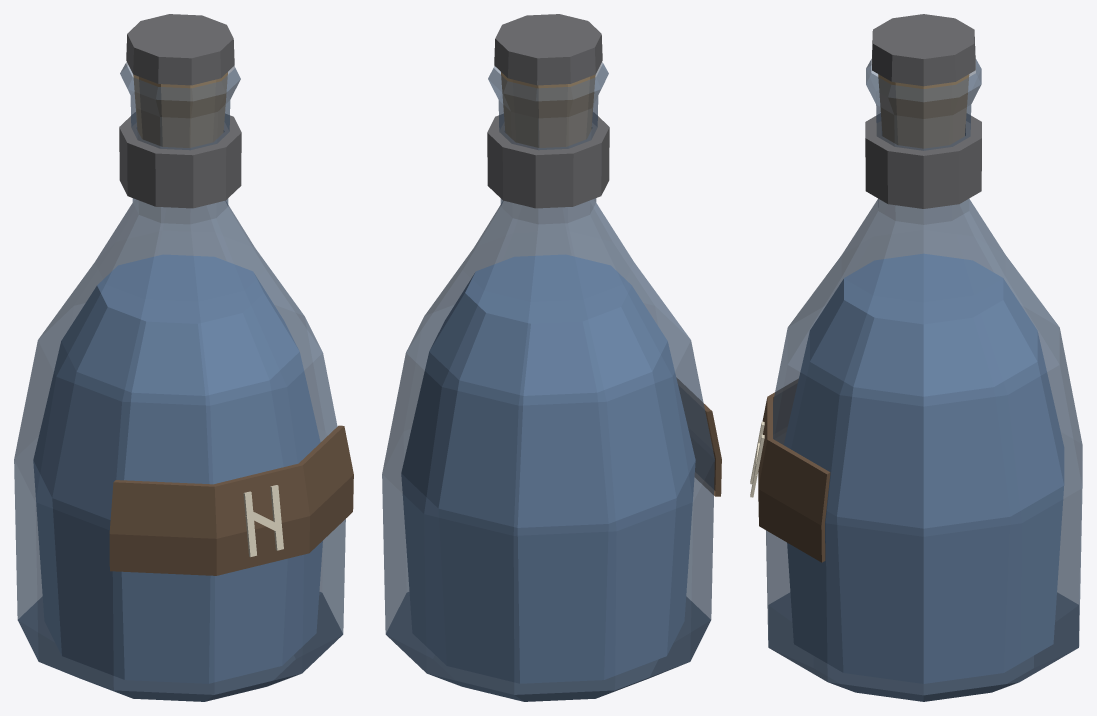
The model's file is bottle_t2.fbx.
3 renders of one model, left to right at view 1: azimuth 30°, elevation 25°; view 2: azimuth 150°, elevation 25°; view 3: azimuth 270°, elevation 25°, orthographic.
Parts seen in each view (by area): view 1: bottle_t2, mist_t2; view 2: bottle_t2, mist_t2; view 3: bottle_t2, mist_t2.
Part boxes in pixels (box(x1,y1,x2,y2)): bottle_t2: box(14, 14, 353, 701); mist_t2: box(33, 254, 322, 683); bottle_t2: box(382, 14, 721, 701); mist_t2: box(401, 254, 695, 683); bottle_t2: box(750, 14, 1082, 701); mist_t2: box(784, 253, 1064, 683).
Bounding box in the file's own units: 11.34 × 23.1 × 11.28.
